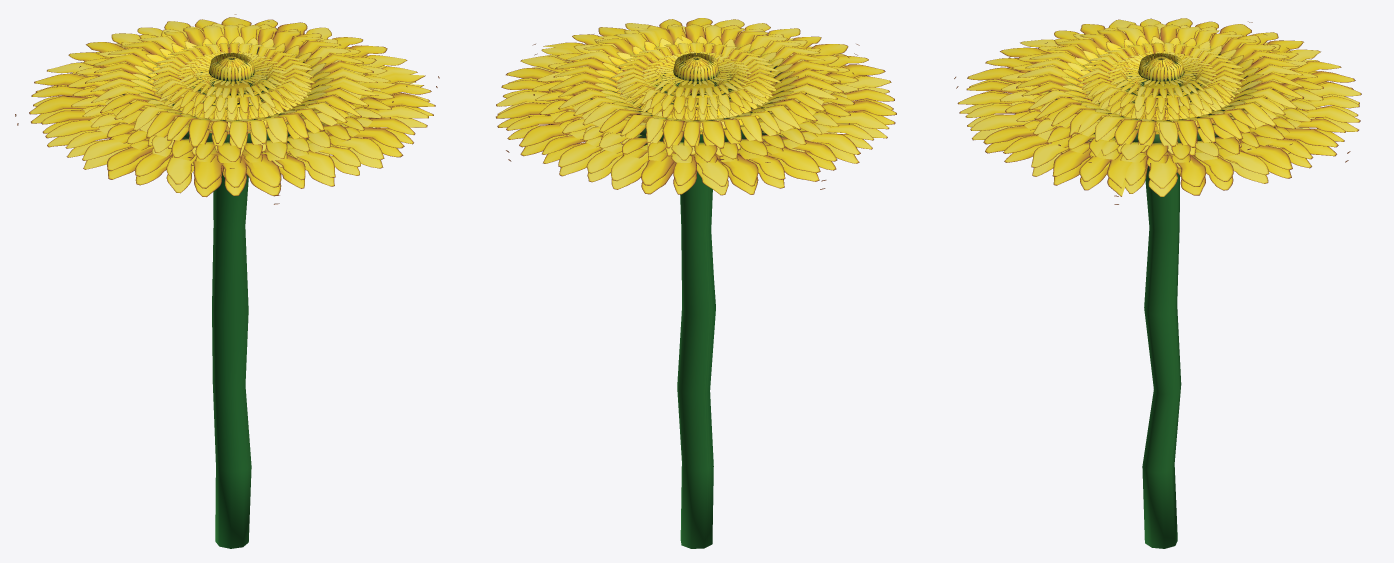
File: crisantemo.fbx
3 views of the same model, side by side, from view 1: azimuth 30°, elevation 25°; view 2: azimuth 150°, elevation 25°; view 3: azimuth 270°, elevation 25° (orthographic).
Parts seen in each view (by area): view 1: flor, tallo; view 2: flor, tallo; view 3: flor, tallo.
Boxes of the visible parts, x1,y1,x2,y2 form: flor: [15, 14, 439, 204]; tallo: [212, 172, 251, 548]; flor: [496, 18, 896, 195]; tallo: [677, 172, 715, 548]; flor: [954, 18, 1361, 204]; tallo: [1142, 166, 1181, 548].
Size of the model in its own units: 0.1674 by 0.2048 by 0.1674.
Materials: 1 (1 with a texture image).
